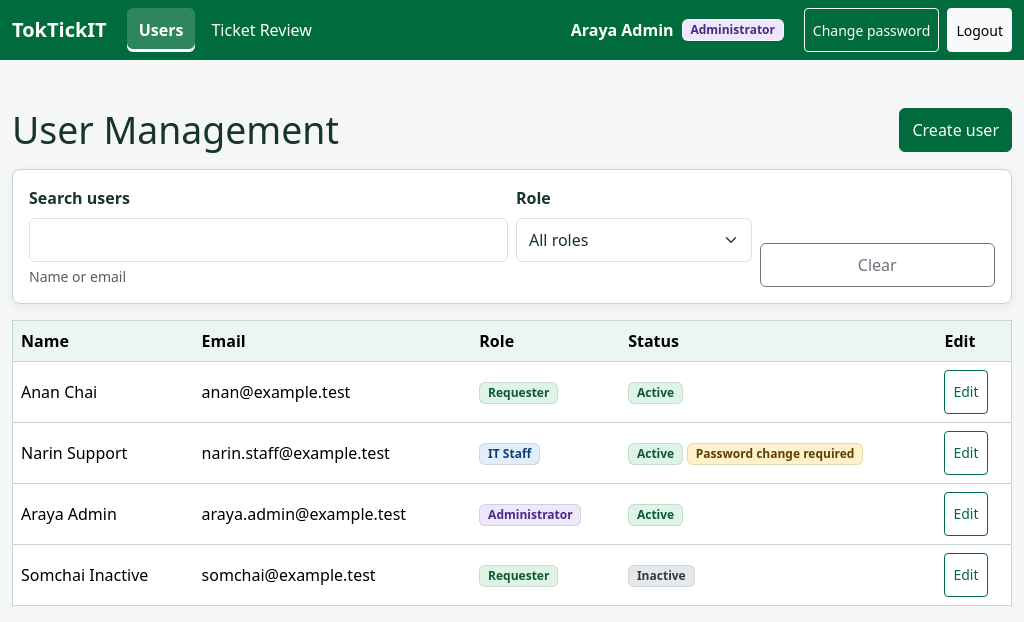
Scenario: UI-07 create user › maps a duplicate email to the Email field and keeps the other input
Expected: the table is shown, top-left (12, 320), bottom-right (1012, 605)
Click the button "Create user" at (956, 130), box top-left (900, 108), bottom-right (1012, 152)
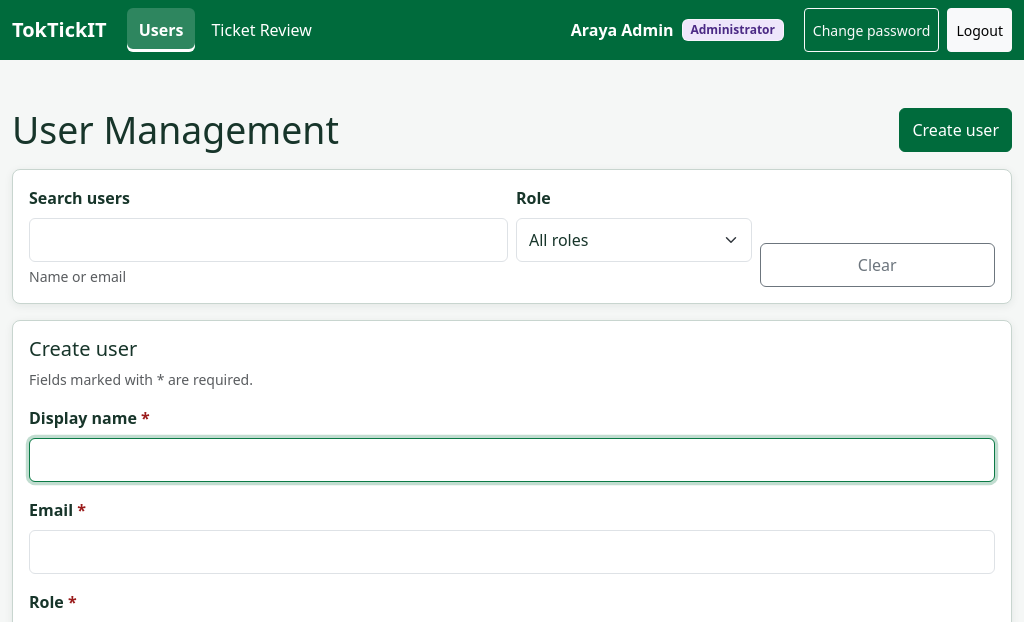
Type "Pim Support" into the field labelled "Display name" at (512, 460), box top-left (29, 438), bottom-right (995, 482)
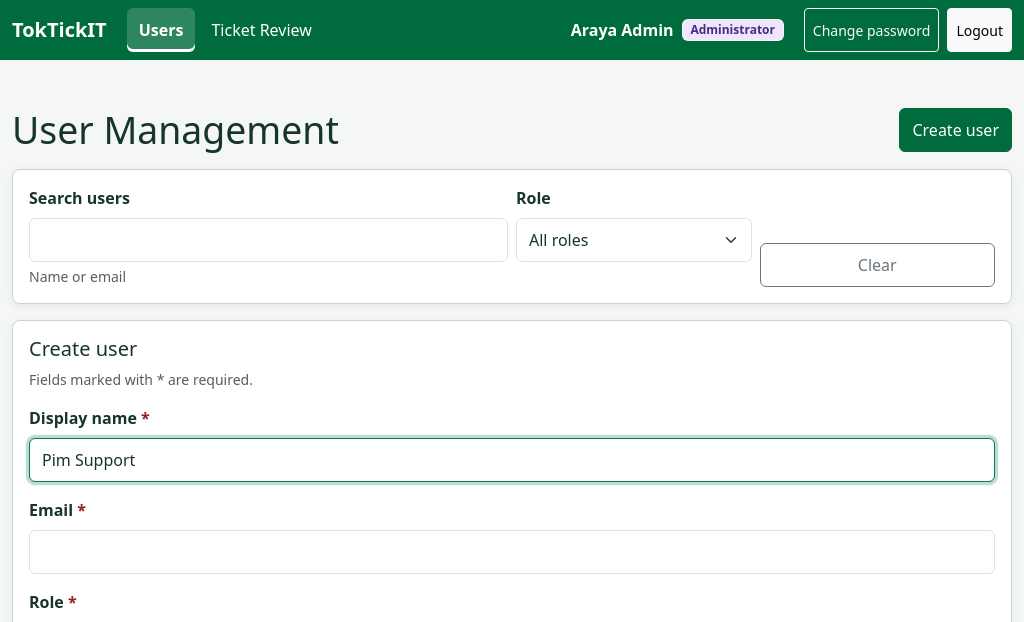
Type "anan@example.test" into the field labelled "Email" at (512, 552), box top-left (29, 530), bottom-right (995, 574)
(page scrolled)
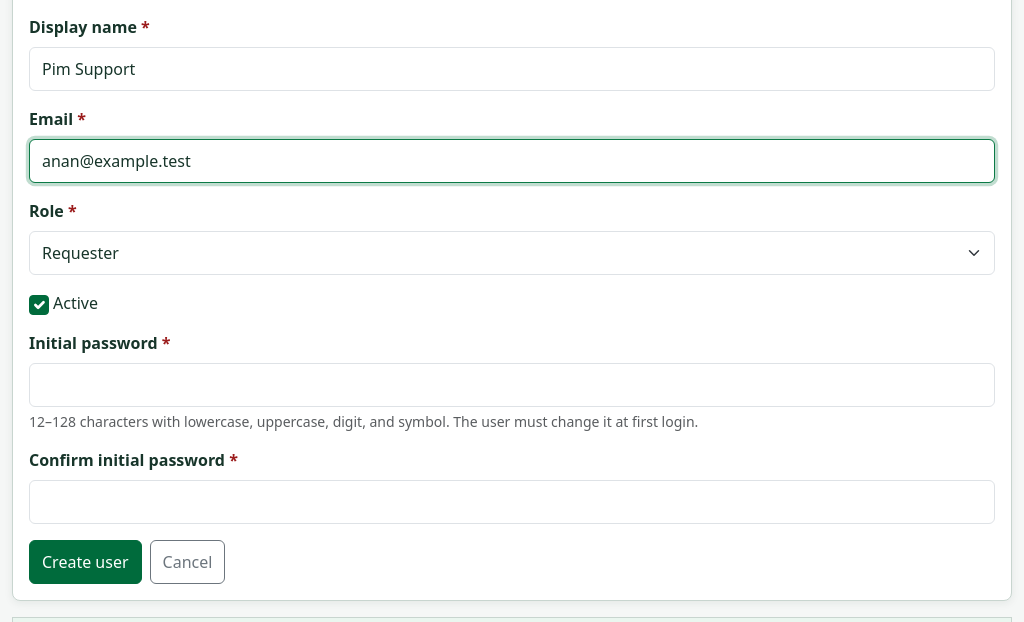
Type "Valid!Passw0rd-xyz" into the password field labelled "Initial password" at (512, 385), box top-left (29, 363), bottom-right (995, 407)
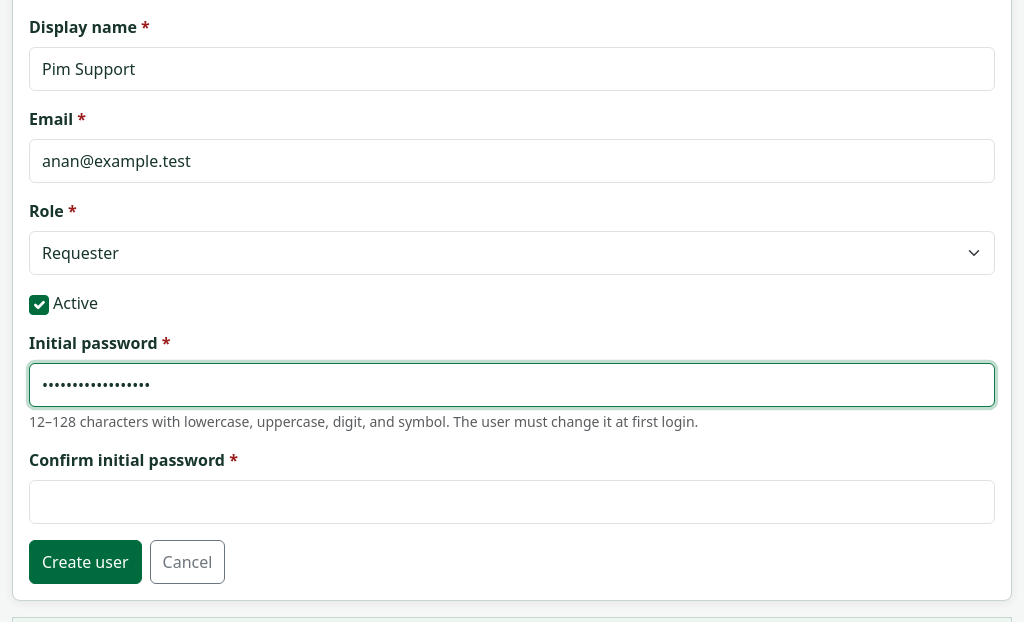
Type "Valid!Passw0rd-xyz" into the password field labelled "Confirm initial password" at (512, 502), box top-left (29, 480), bottom-right (995, 524)
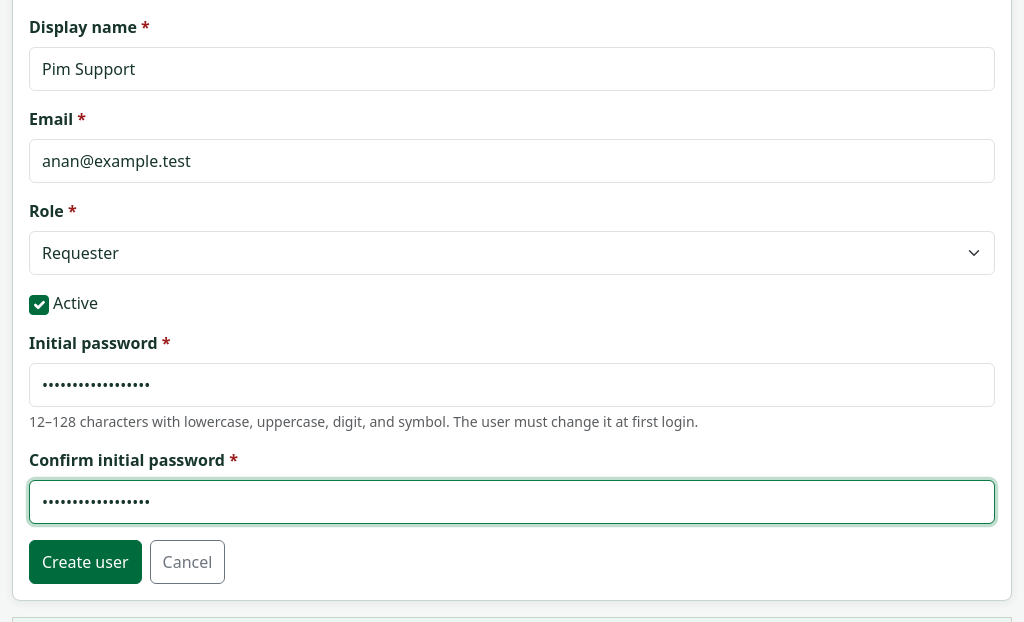
Click the button "Create user" at (85, 562), box top-left (29, 540), bottom-right (142, 584)
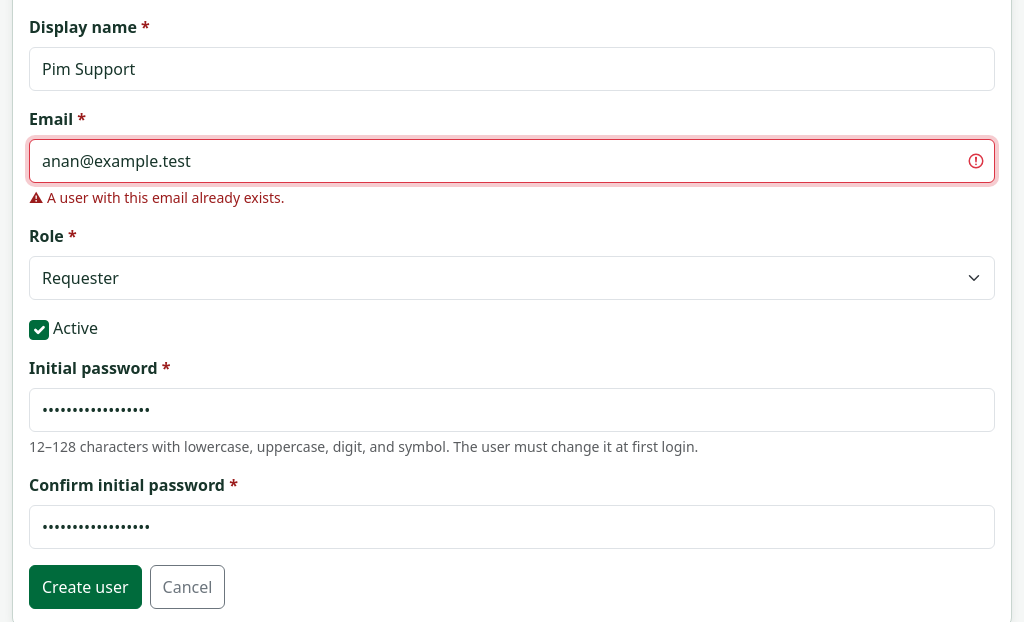
Expected: the text "A user with this email already exists." is shown, top-left (47, 188), bottom-right (285, 207)
